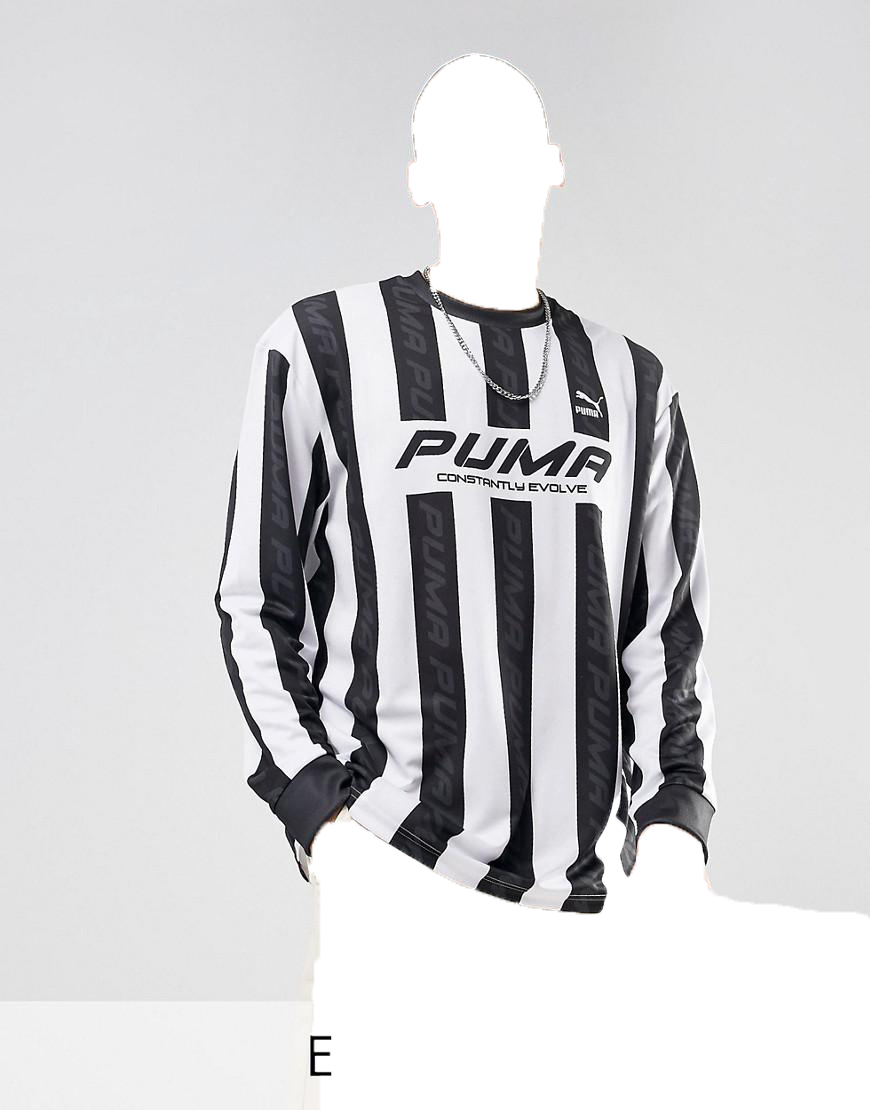teeshirt: (203, 262, 737, 942)
